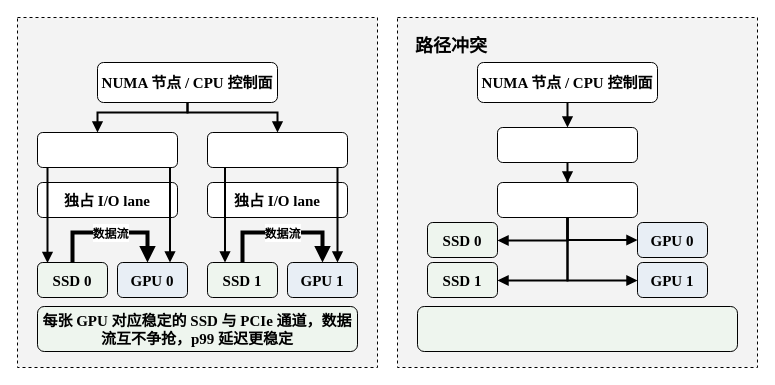
Some shapes in this 775 by 385 pixel diagram are drawn without their labels. The box of each missing label's shape, as (x1, y1, x2, y2) in pixels:
PCIe Root / Lane A: (36, 132, 178, 168)
PCIe Root / Lane B: (206, 132, 348, 168)
共享 PCIe Root / Switch: (496, 126, 638, 162)
共享路径拥塞 / 排队等待: (496, 182, 638, 218)
合理绑定: (16, 16, 378, 368)
多张 GPU 共用同一 PCIe / SSD 路径时，I/O 排队与冲突会放大尾延迟，p99 上升: (416, 306, 738, 352)
